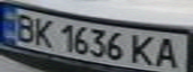1: (54, 21, 75, 53)
3: (87, 27, 109, 60)
6: (106, 29, 130, 62), (69, 24, 90, 56)
A: (151, 35, 184, 70)
B: (9, 11, 39, 43)
K: (127, 32, 160, 66), (30, 16, 57, 48)
